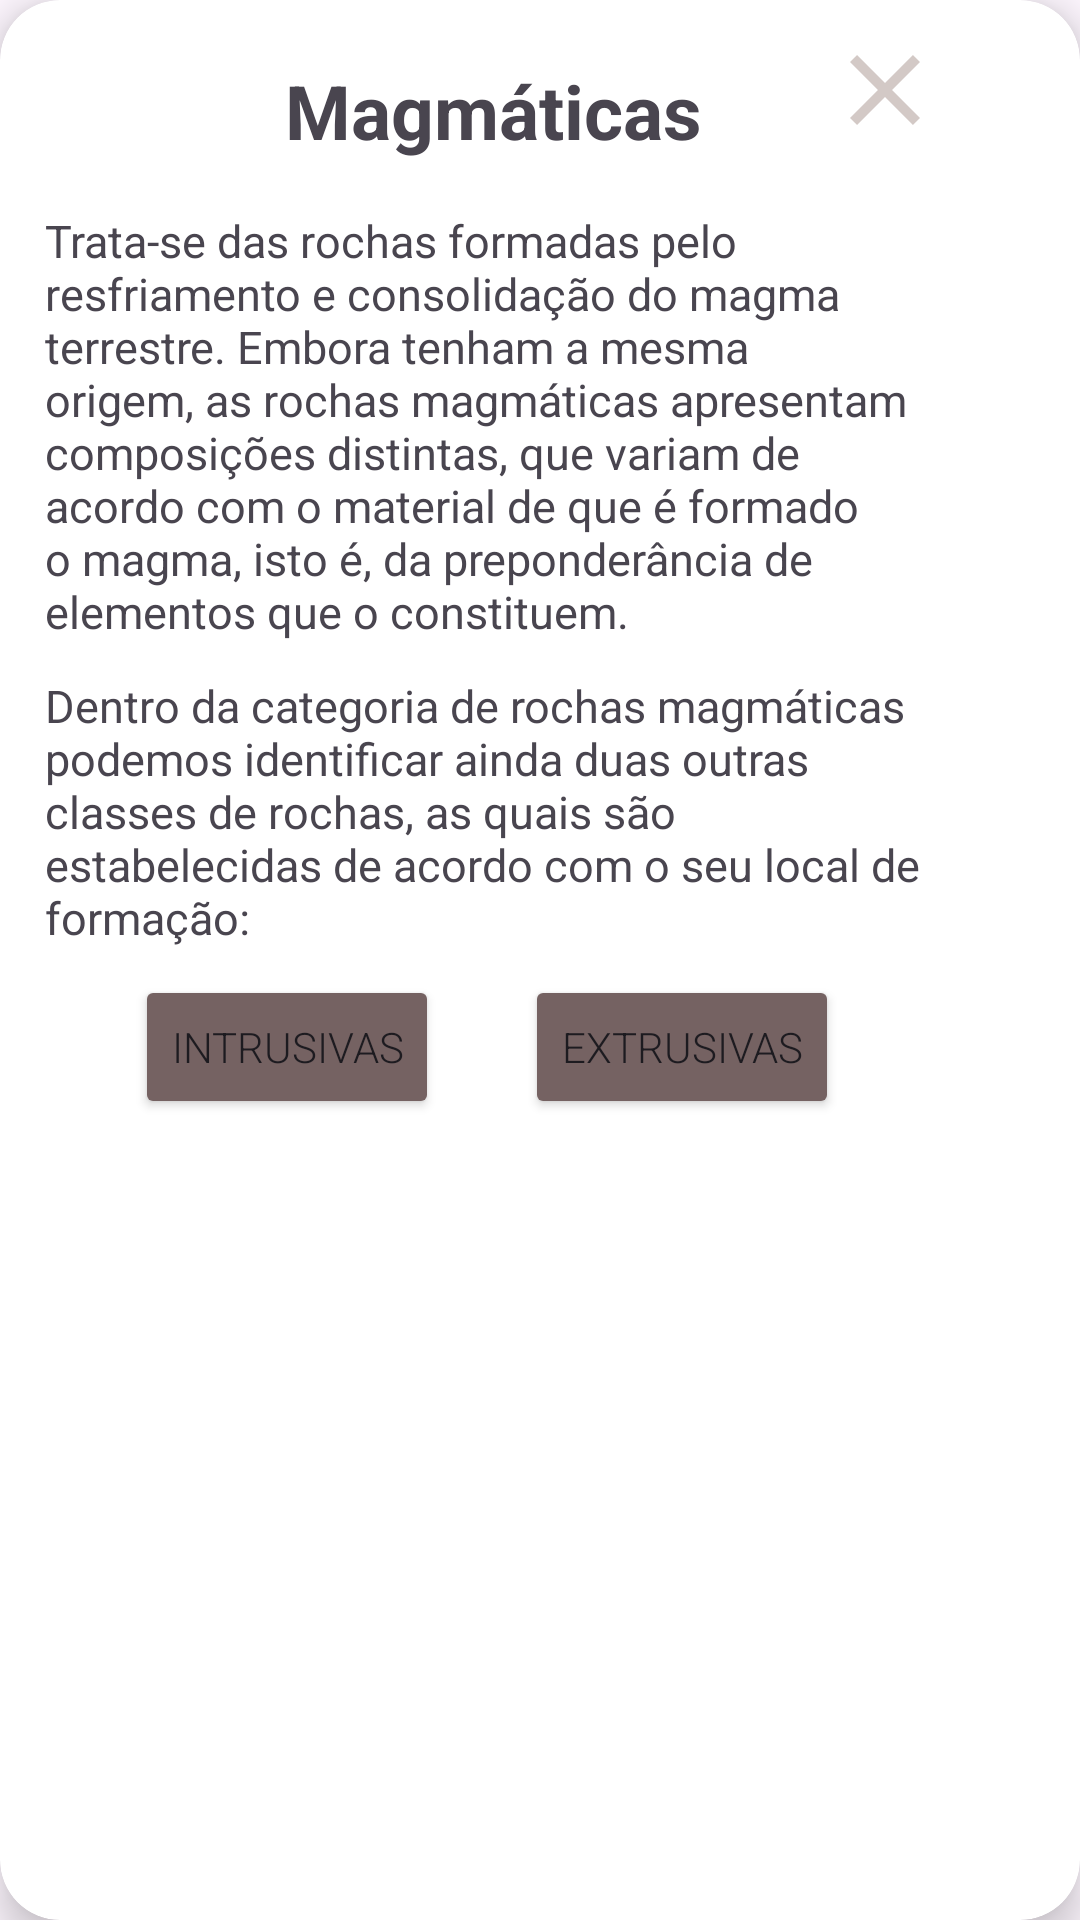

Icon bounding boxes for this 1080px×1920px phone screenshot, format (x1, y1, x2, y2):
fechar: (850, 55, 920, 125)
